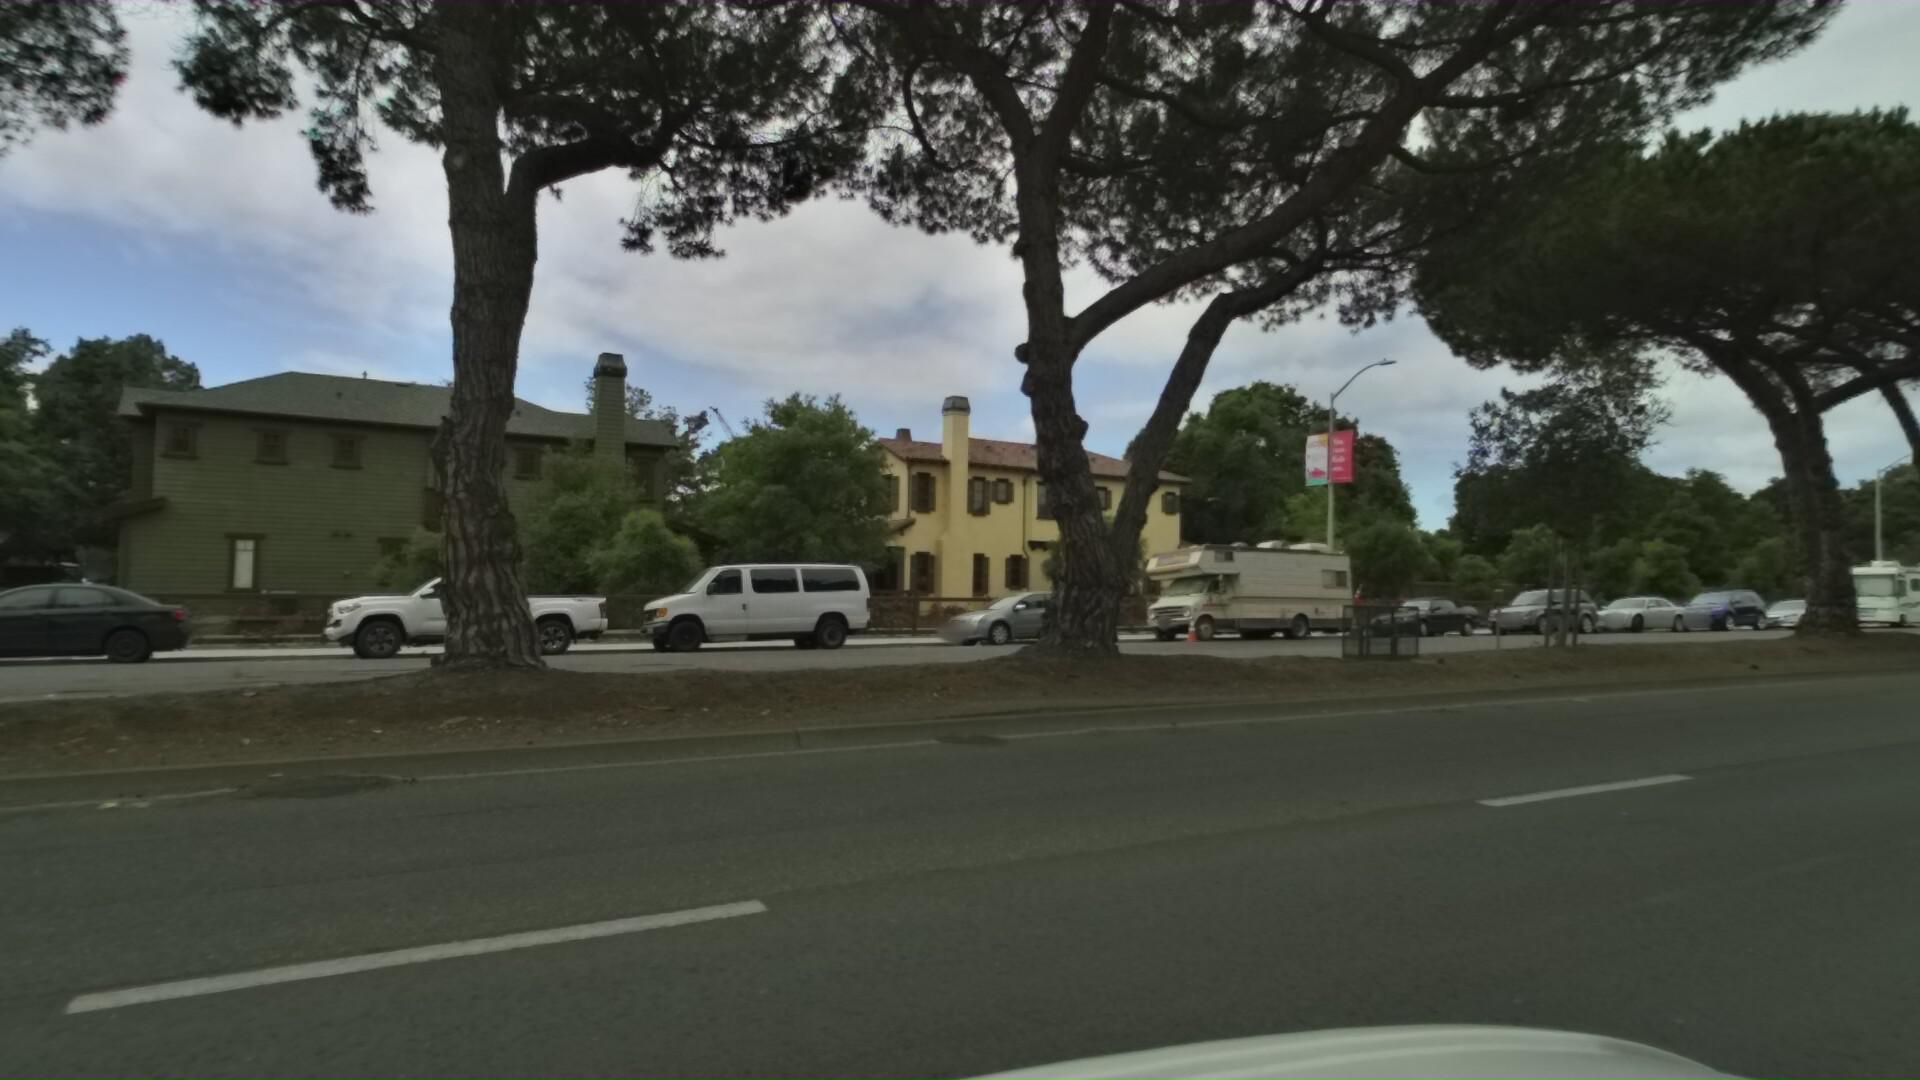car: (280, 556, 597, 669), (603, 545, 862, 651), (0, 567, 175, 676), (911, 575, 1101, 641), (1461, 578, 1594, 626), (1348, 584, 1476, 632), (1560, 584, 1687, 626), (1654, 578, 1768, 624), (1727, 584, 1837, 622)
other_vehicle: (1113, 521, 1378, 636), (1804, 537, 1920, 622)
